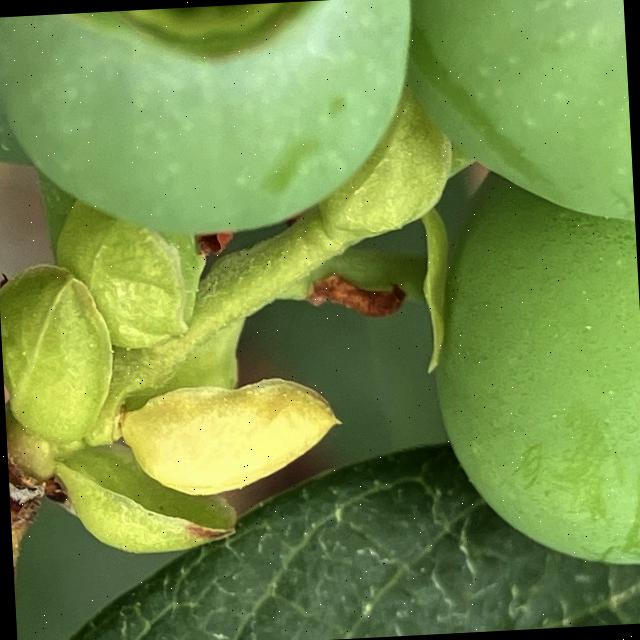Blueberries: (416, 164, 640, 580)
